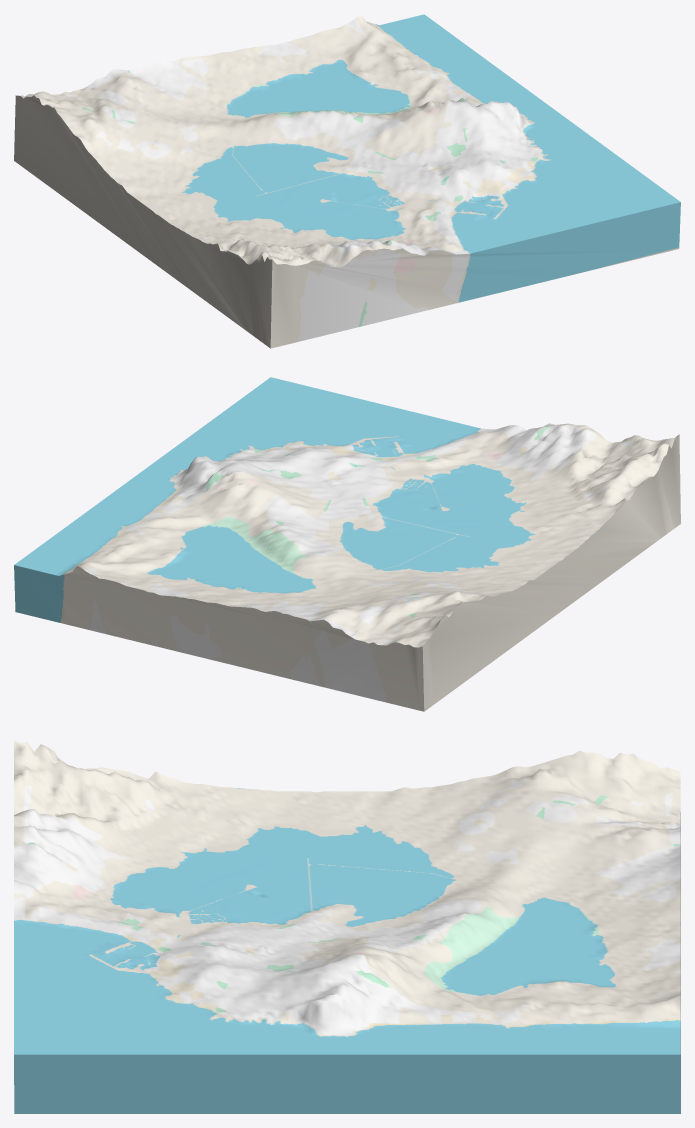
Rendered from laguna_con_textura2.glb.
3 renders of one model, top to bottom at view 1: azimuth 30°, elevation 25°; view 2: azimuth 150°, elevation 25°; view 3: azimuth 270°, elevation 25°, orthographic. The views are drawn at different scales.
Visible parts, largest first — view 1: Terrain_DEM_tile.005; view 2: Terrain_DEM_tile.005; view 3: Terrain_DEM_tile.005.
Part boxes in pixels (x1,y1,x2,y2): Terrain_DEM_tile.005: (14,14,680,348); Terrain_DEM_tile.005: (14,377,680,711); Terrain_DEM_tile.005: (14,740,680,1113).
Bounding box in the file's own units: 0.7194 × 0.1495 × 0.7799.
Materials: 1 (1 with a texture image).
